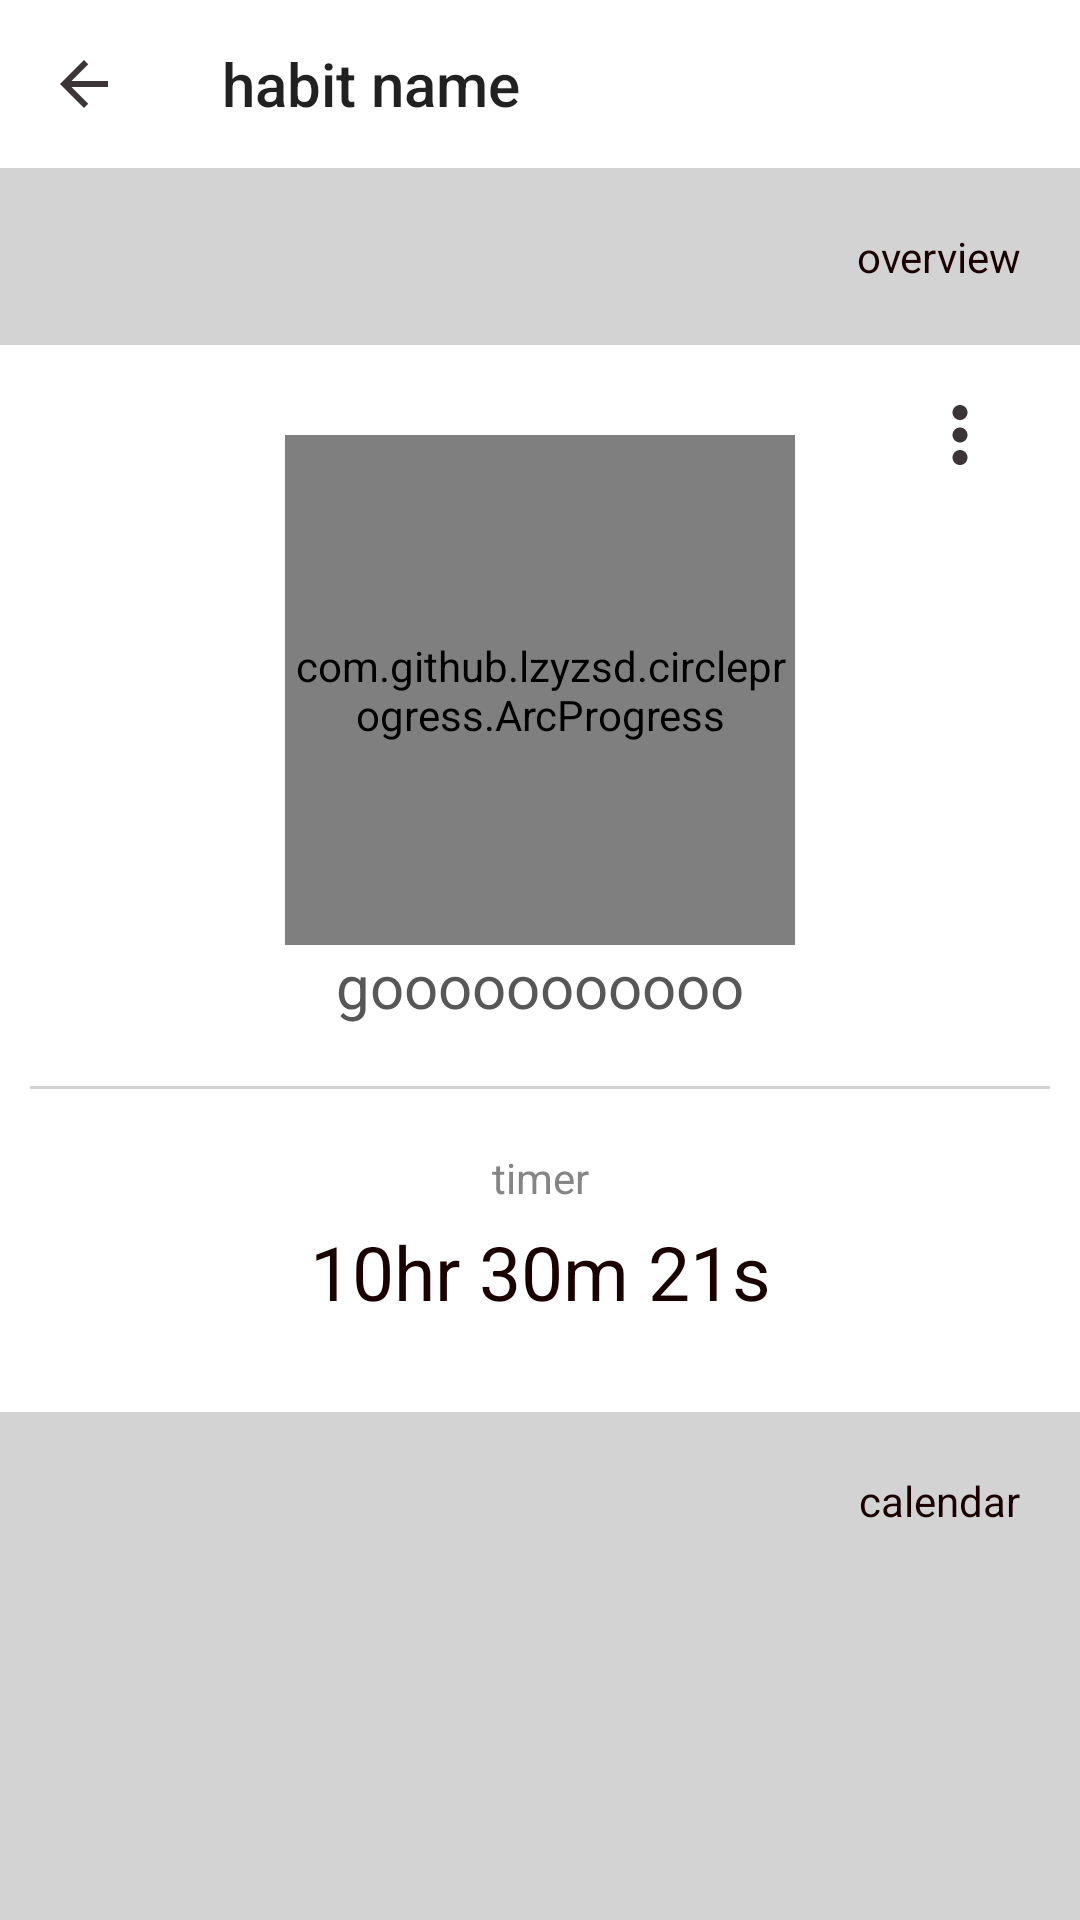

Named icons in this screenshot (1080 × 1920) and their bounding boxes, (x1, y1, x2, y2):
more: (952, 405, 968, 465)
